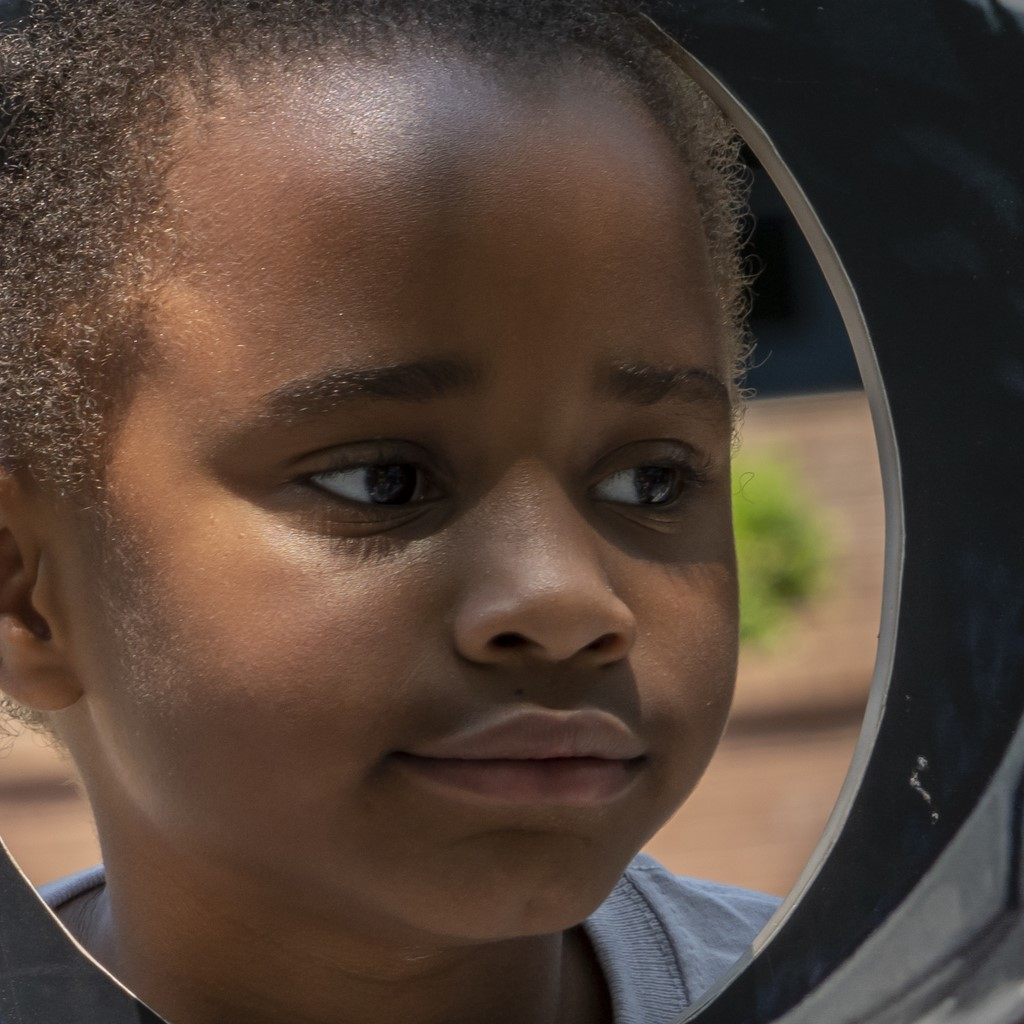sin_mascara: (42, 35, 730, 899)
